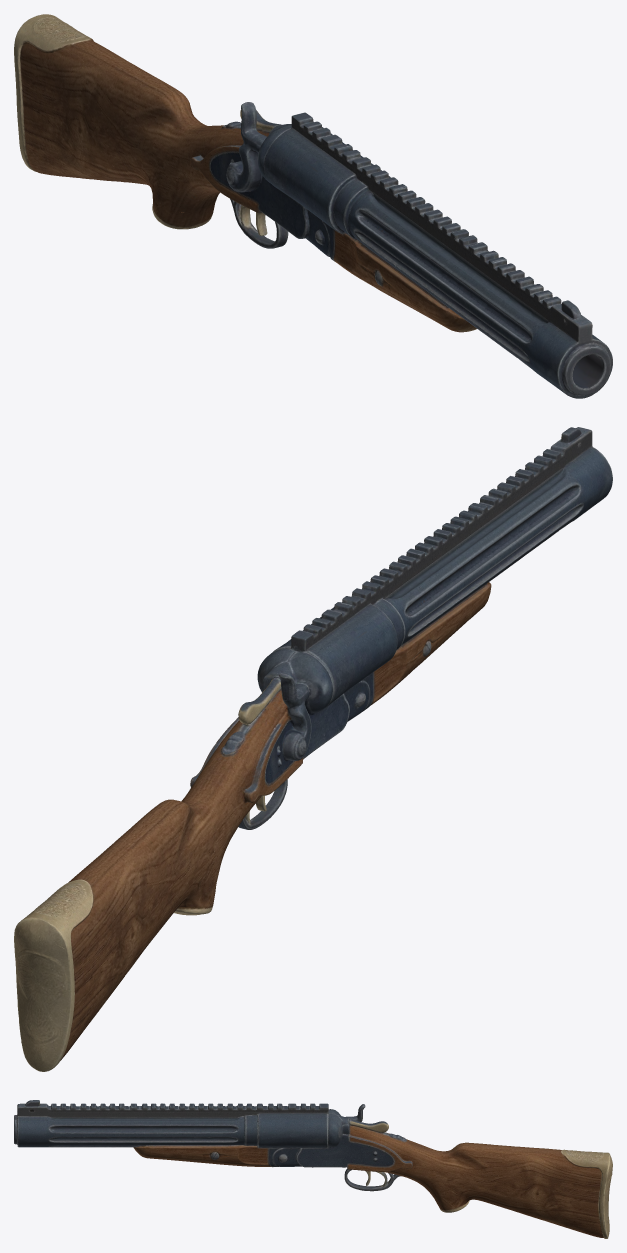
File: buffalo_cannon.high.glb
3 views of the same model, one above another, from view 1: azimuth 30°, elevation 25°; view 2: azimuth 150°, elevation 25°; view 3: azimuth 270°, elevation 25° (orthographic). The views are drawn at different scales.
Visible parts, largest first — view 1: model; view 2: model; view 3: model.
Part boxes in pixels (x1,y1,x2,y2): model: [14, 14, 612, 398]; model: [14, 427, 612, 1071]; model: [14, 1100, 612, 1238].
Bounding box in the file's own units: 0.0618 × 0.2027 × 0.8002.
Materials: 1 (1 with a texture image).
